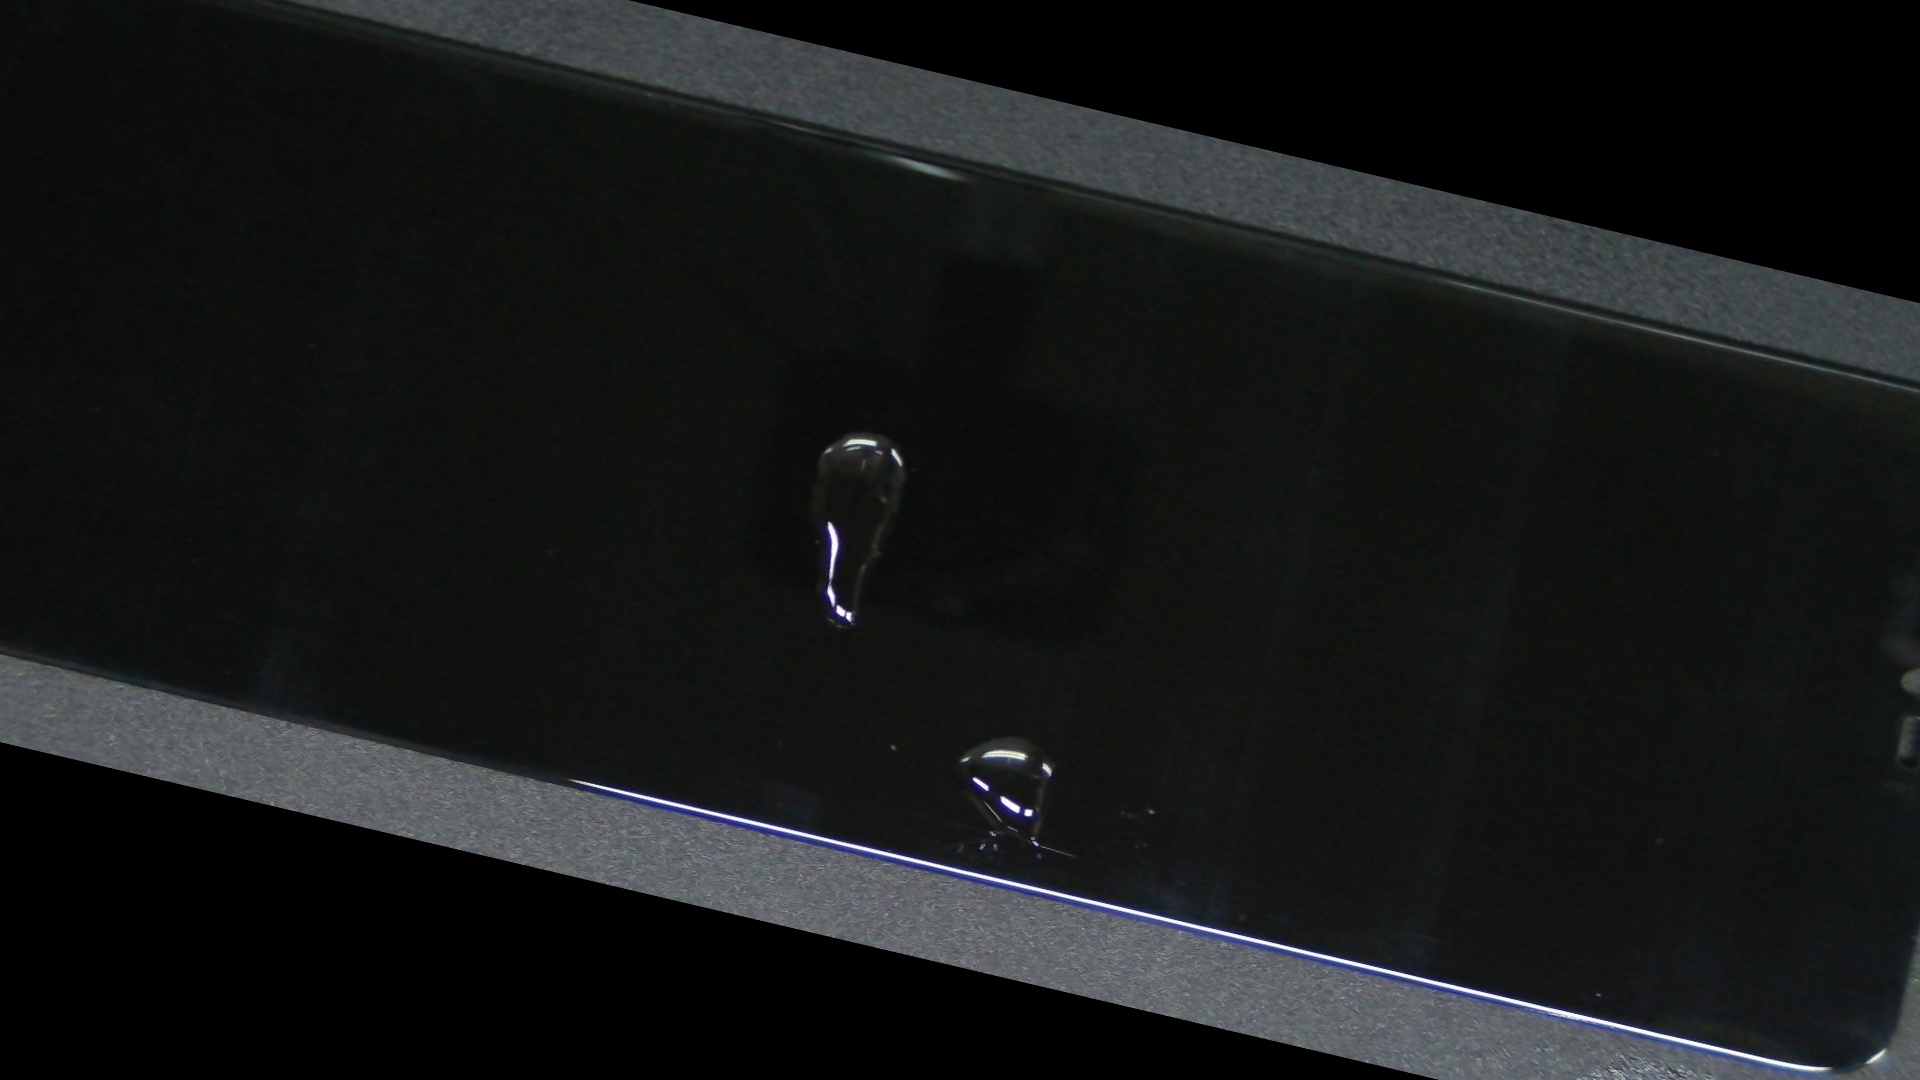oil: (359, 289, 1729, 1080), (318, 135, 1416, 729)
